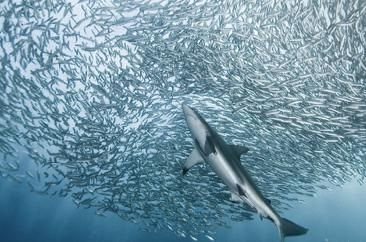Shark -Selachimorpha-: (181, 101, 310, 242)
